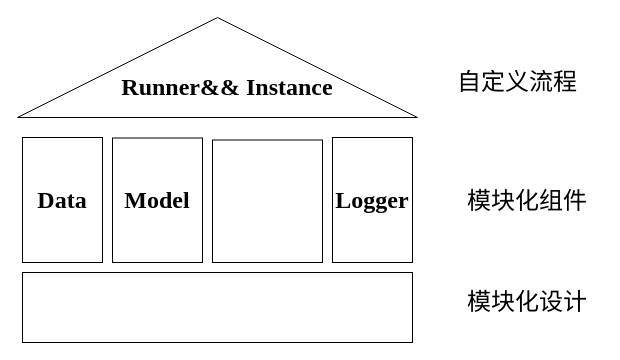
This 620x360 diagram has some shape labels left out. The shapes that lost their labels are listed below. From the top down, each one's box as (x1, y1, x2, y2) in pixels, then its label:
(212, 139, 322, 262): Optimizer
(22, 272, 412, 342): Registry&& Config && Builder
